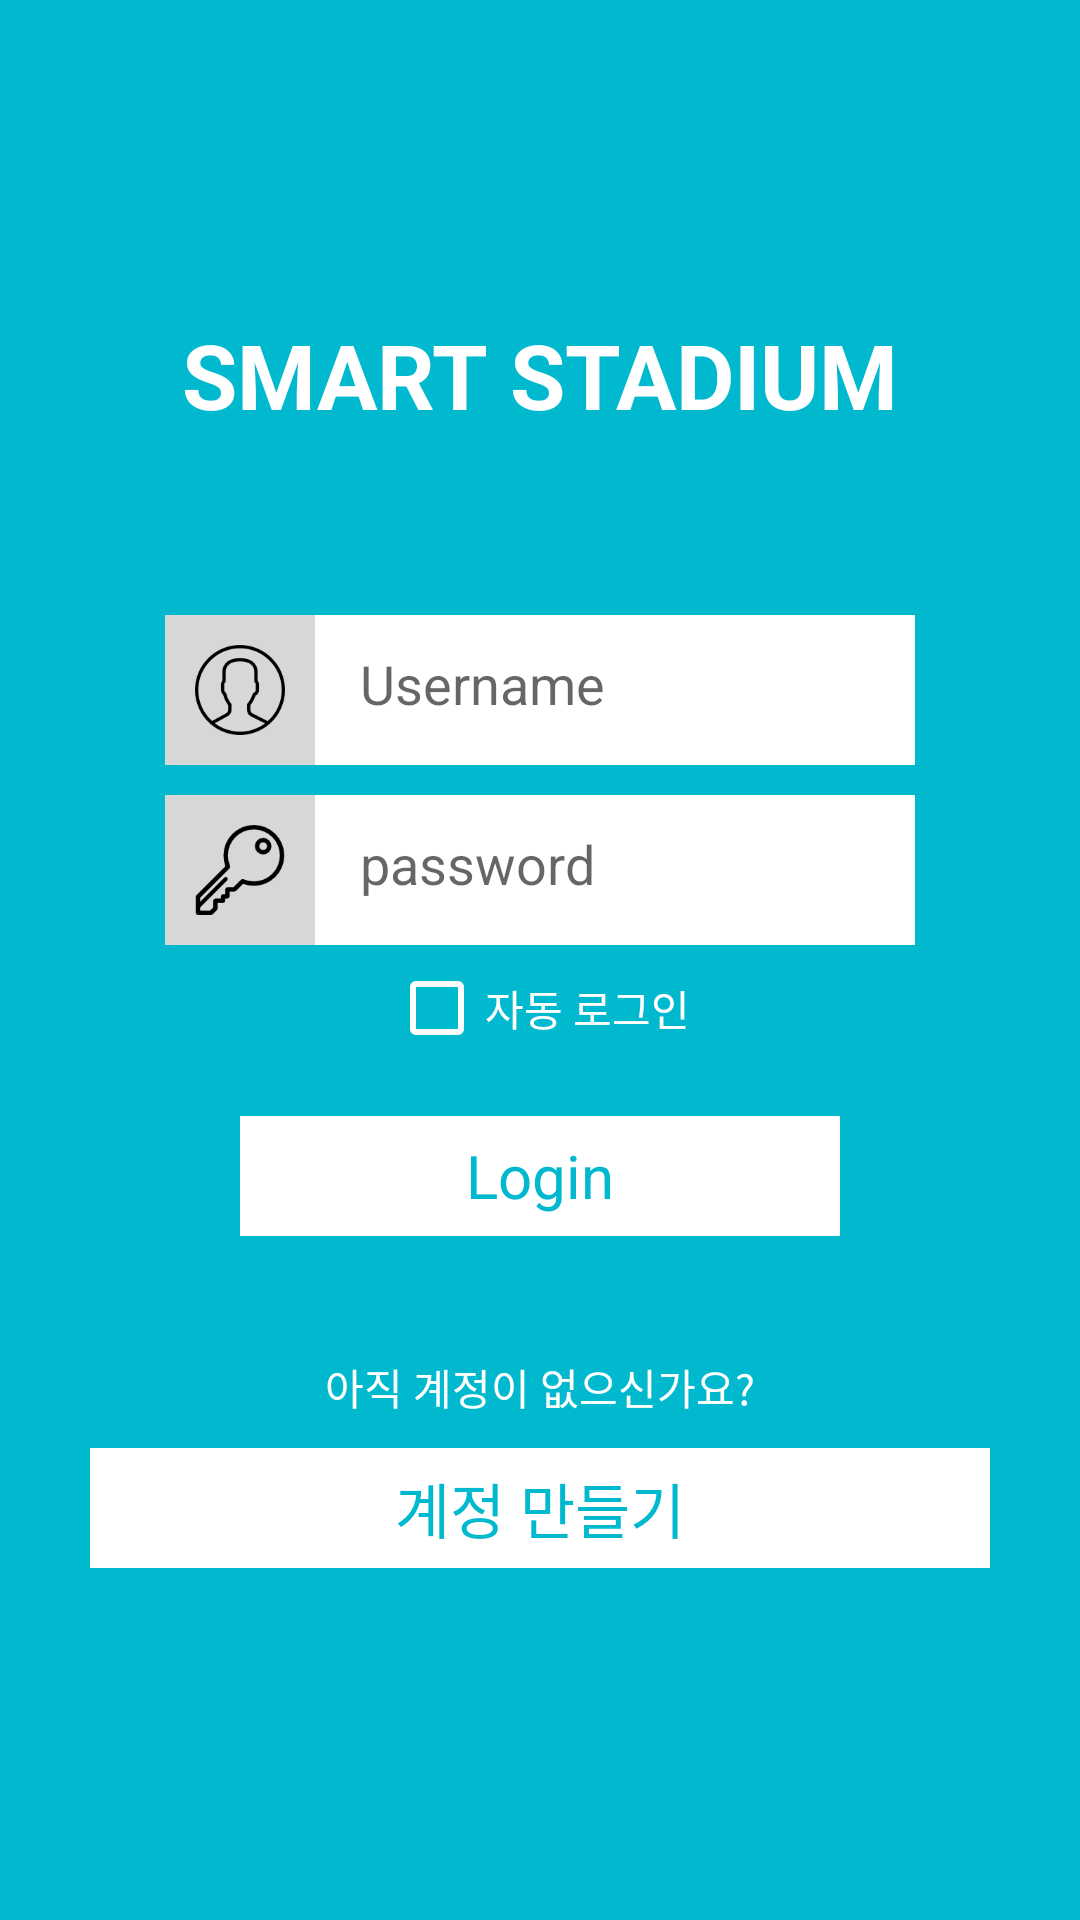

Icons on this 1080px x 1920px Android screen, each with the point to tap as (x=x, y=y):
key: (x=240, y=870)
